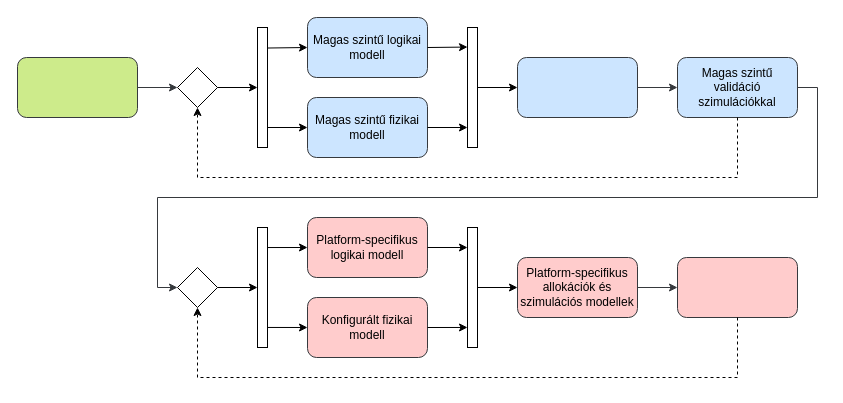
The diagram is 843 pixels wide and 403 high, and some of its shapes have lost their labels. The centre of each missing label's shape, as x and y in pixels:
Előzetes allokációk, magas szintű szimulációs modellek: the point at 577,87
Követelmények és előkészítő lépések: the point at 77,87
Platform-specifikus validáció szimulációkkal: the point at 737,287
